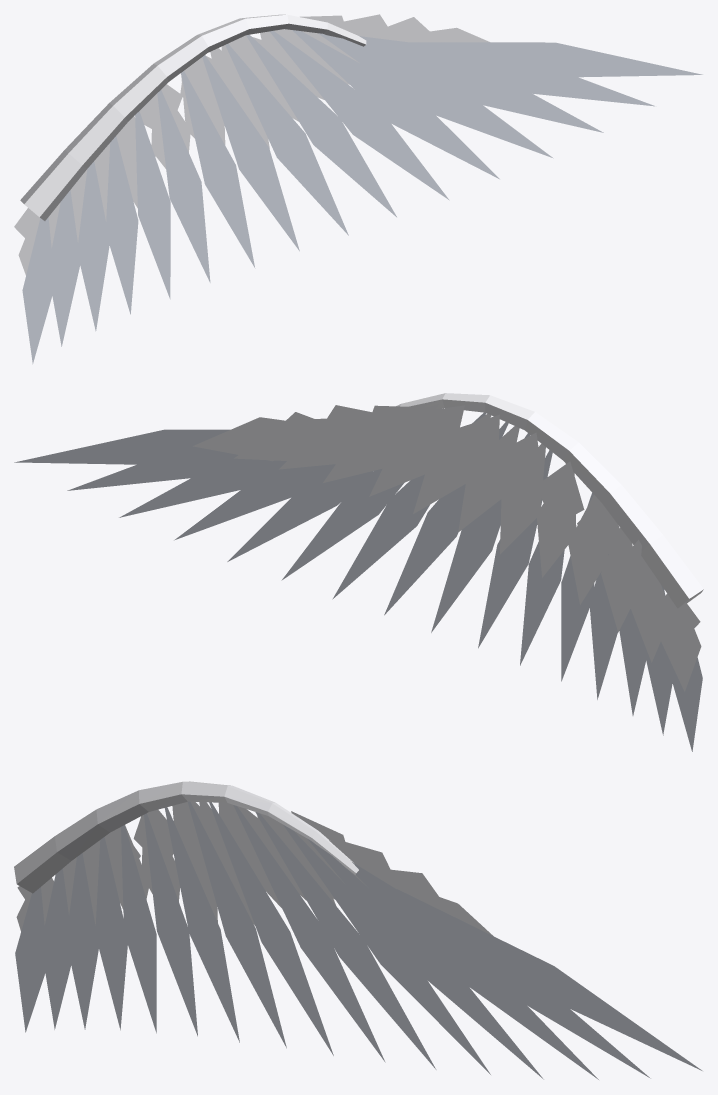
Rendered from Wing.obj.
3 renders of one model, top to bottom at view 1: azimuth 30°, elevation 25°; view 2: azimuth 150°, elevation 25°; view 3: azimuth 330°, elevation 25°, orthographic.
Parts seen in each view (by area): view 1: Wing; view 2: Wing; view 3: Wing.
Boxes of the visible parts, x1,y1,x2,y2 form: Wing: (14, 14, 702, 364); Wing: (14, 393, 703, 751); Wing: (14, 781, 702, 1079).
Bounding box in the file's own units: 2.08 × 0.8683 × 0.0979.
Materials: 1 (1 with a texture image).
